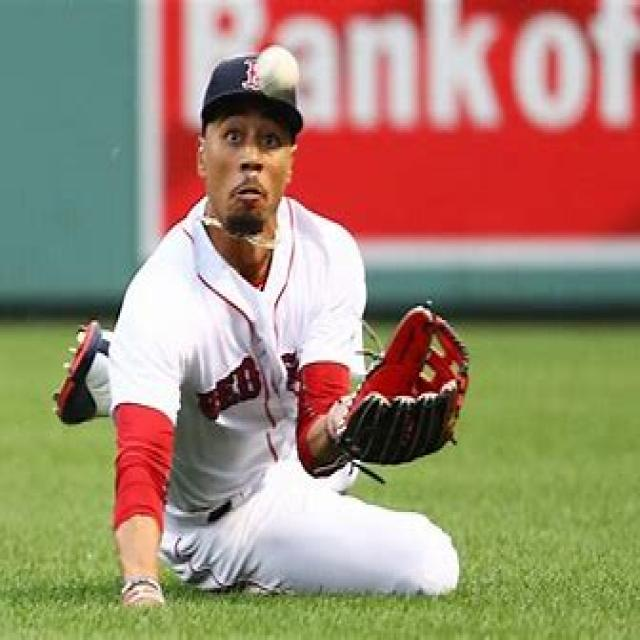glove: (332, 296, 473, 471)
